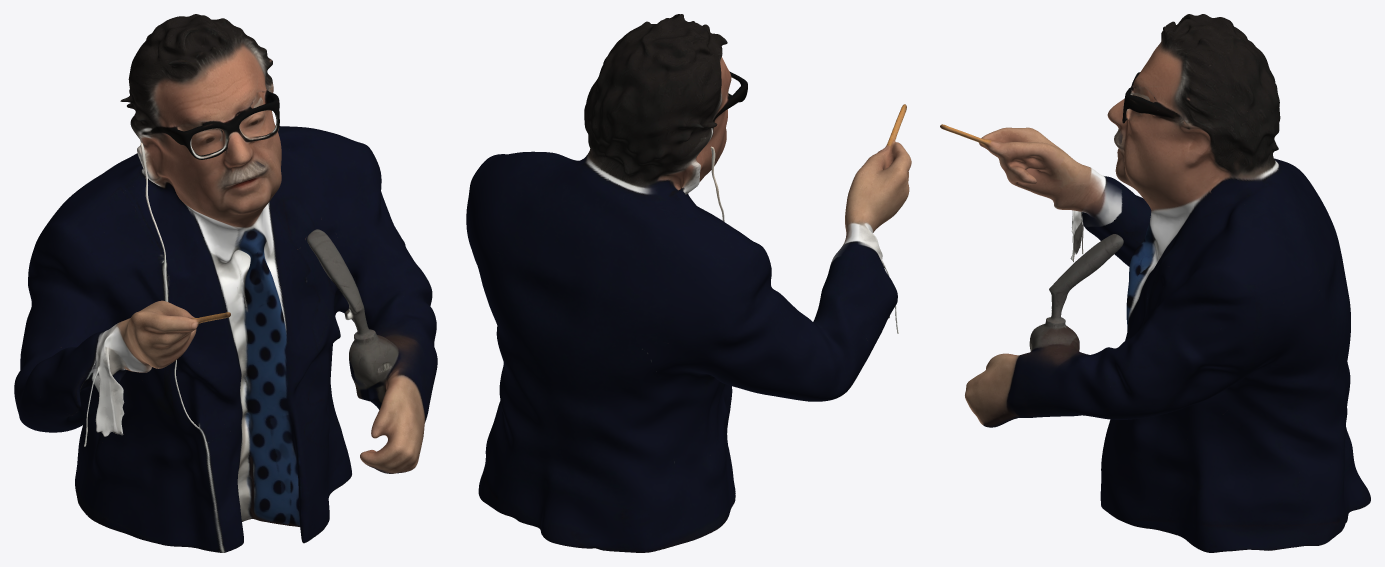
File: salvador-allende.glb
3 views of the same model, side by side, from view 1: azimuth 30°, elevation 25°; view 2: azimuth 150°, elevation 25°; view 3: azimuth 270°, elevation 25° (orthographic). The views are drawn at different scales.
Size of the model in its own units: 1.52 by 1.9 by 1.59.
1 material, 1 textured.
